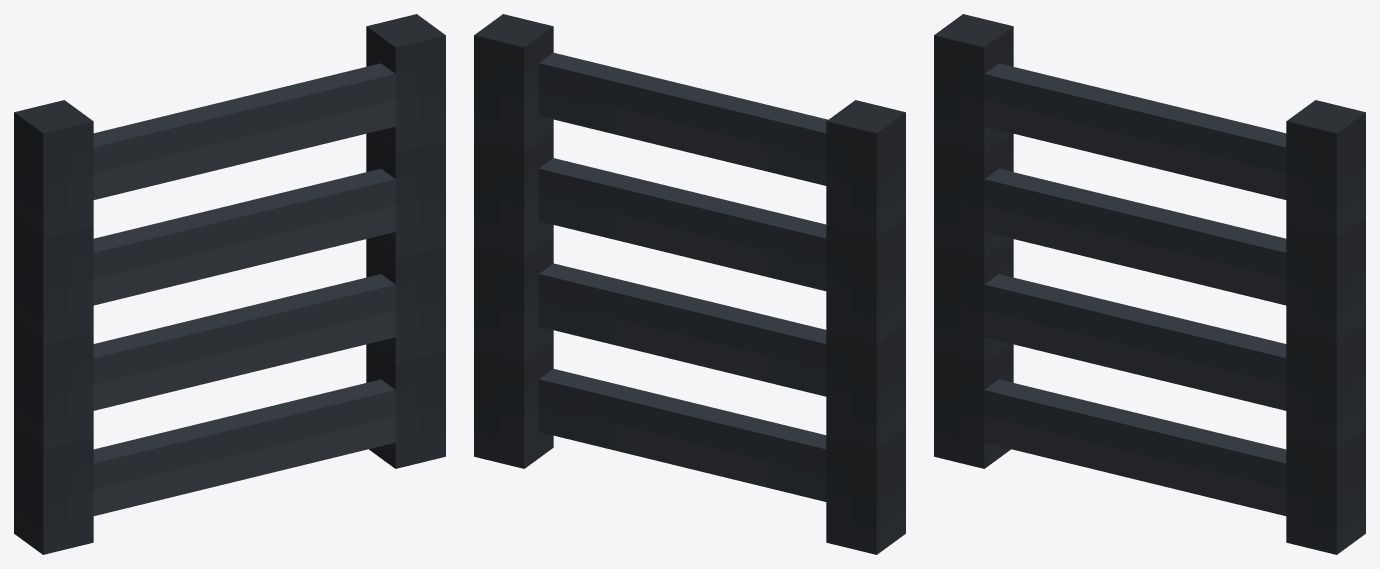
The model's file is artifact_ladder.obj.
3 renders of one model, left to right at view 1: azimuth 30°, elevation 25°; view 2: azimuth 150°, elevation 25°; view 3: azimuth 330°, elevation 25°, orthographic.
Parts seen in each view (by area): view 1: cube; view 2: cube; view 3: cube.
Part boxes in pixels (<box>): cube: <box>14,14,445,554</box>; cube: <box>474,14,905,554</box>; cube: <box>934,14,1365,554</box>.
Bounding box in the file's own units: 1 × 1 × 0.125.
1 material, 1 textured.
